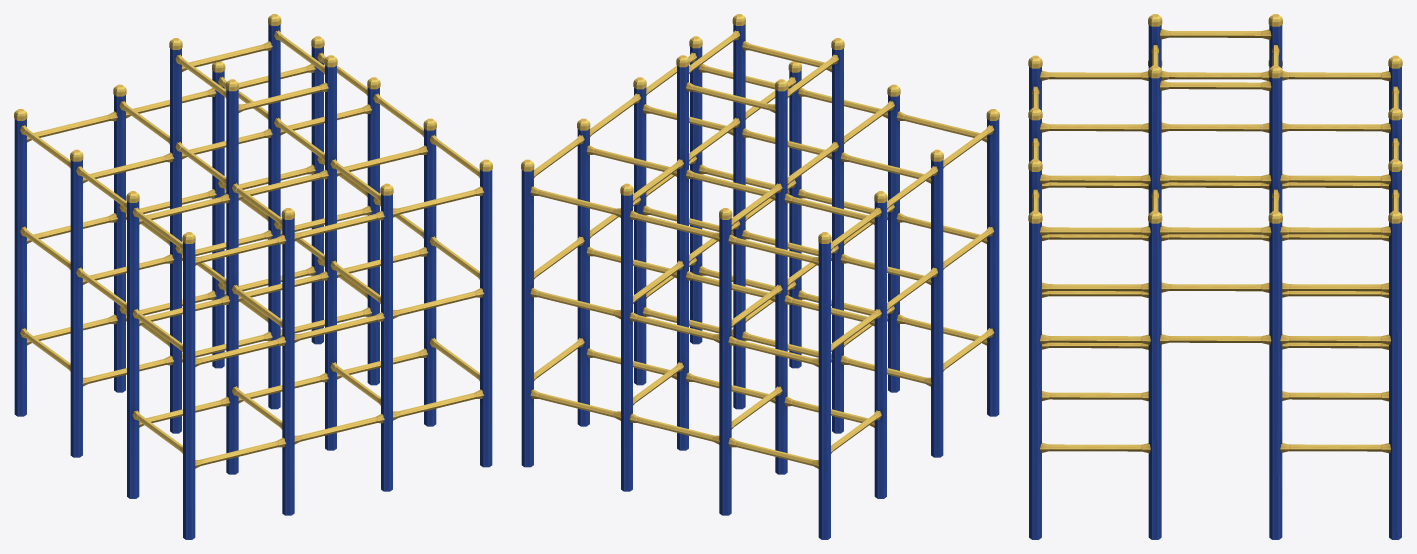
File: b68dad13-42da-4458-ba80-d91505668883.glb
3 views of the same model, side by side, from view 1: azimuth 30°, elevation 25°; view 2: azimuth 150°, elevation 25°; view 3: azimuth 270°, elevation 25° (orthographic). The views are drawn at different scales.
Parts seen in each view (by area): view 1: polySurface8; view 2: polySurface8; view 3: polySurface8.
Part boxes in pixels (x1,y1,x2,y2): polySurface8: [14, 14, 492, 539]; polySurface8: [521, 14, 999, 539]; polySurface8: [1028, 14, 1402, 539].
Size of the model in its own units: 9.5 by 11.58 by 9.38.
Materials: 1 (1 with a texture image).
